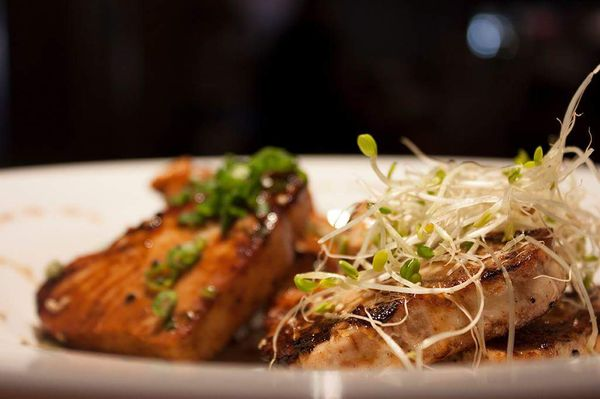soup: (37, 146, 315, 363)
